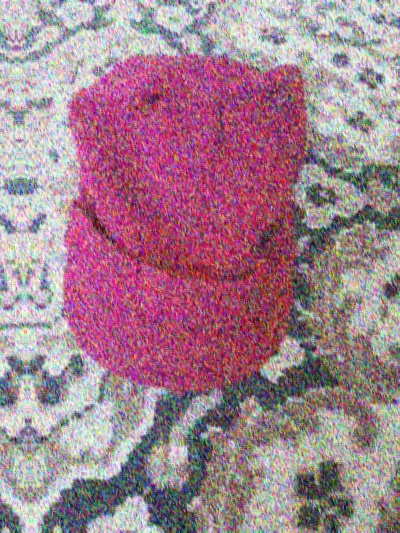Hat: (34, 11, 349, 422), (0, 21, 10, 433)
